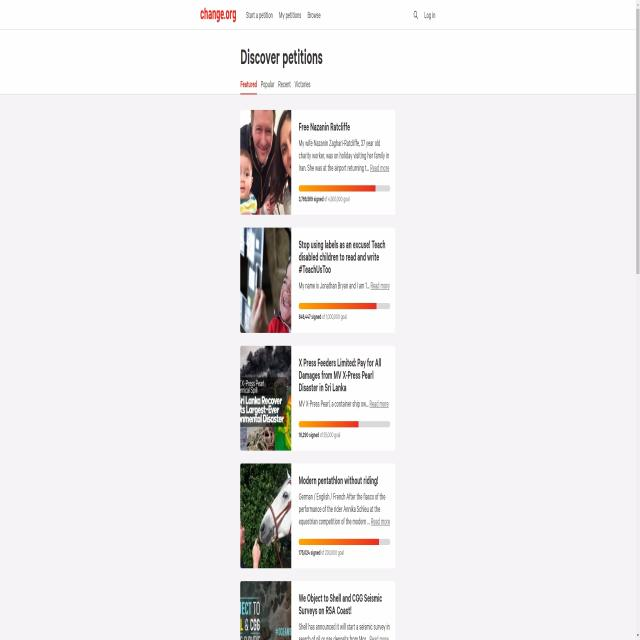menu-bar: (411, 3, 440, 23)
tab-bar: (200, 4, 325, 29), (236, 75, 314, 92)
